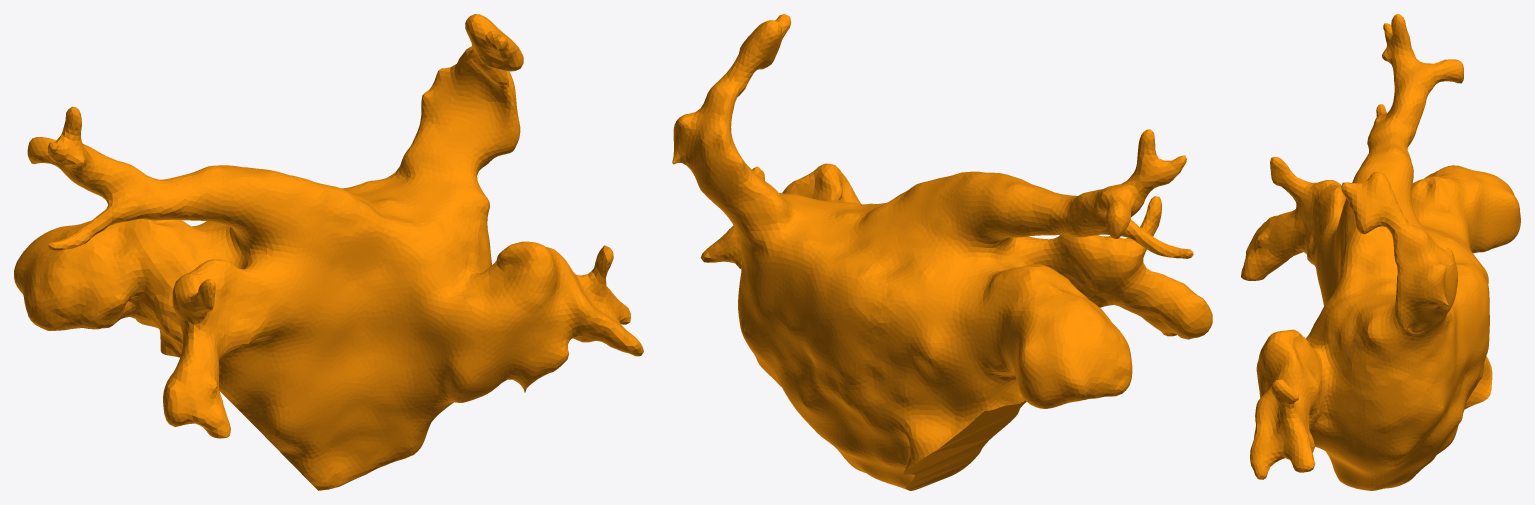
3 views of the same model, side by side, from view 1: azimuth 30°, elevation 25°; view 2: azimuth 150°, elevation 25°; view 3: azimuth 270°, elevation 25° (orthographic). The views are drawn at different scales.
Parts seen in each view (by area): view 1: 2018002 Left Atrium; view 2: 2018002 Left Atrium; view 3: 2018002 Left Atrium.
Boxes of the visible parts, x1,y1,x2,y2 form: 2018002 Left Atrium: (14,14,643,490); 2018002 Left Atrium: (672,14,1212,490); 2018002 Left Atrium: (1241,14,1520,490).
Bounding box in the file's own units: 142 × 107 × 75.38.
